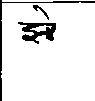e_matra: (33, 5, 53, 22)
